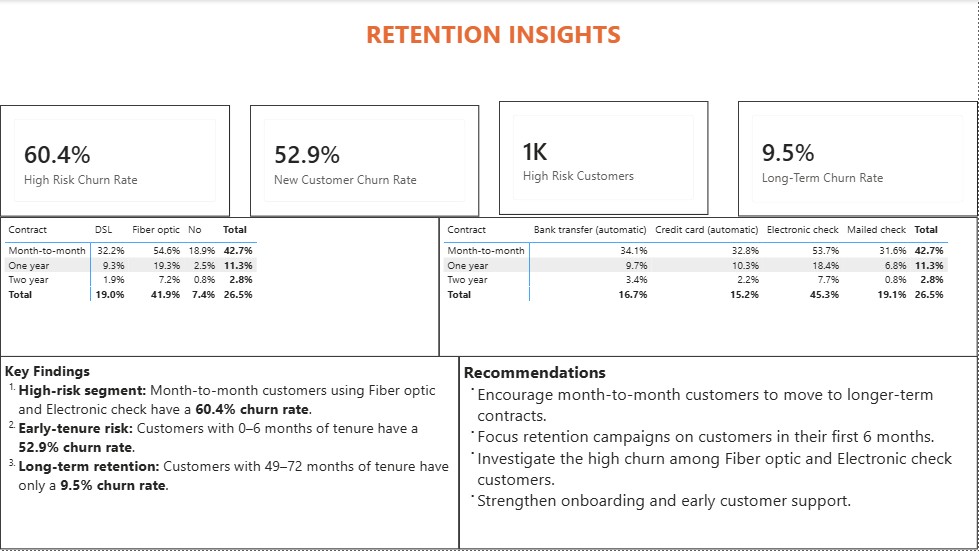

The dashboard page shown, as its layout file describes it:
{"tool":"powerbi","page":{"name":"Page 3","canvas":[1280,720],"ordinal":2},"visuals":[{"type":"pivotTable","fields":{"Rows":["WA_Fn-UseC_-Telco-Customer-Churn.Contract"],"Columns":["WA_Fn-UseC_-Telco-Customer-Churn.PaymentMethod"],"Values":["WA_Fn-UseC_-Telco-Customer-Churn.Churn Rate"]},"box":[575.3,283.5,704.7,183.1],"z":0},{"type":"cardVisual","fields":{"Data":["WA_Fn-UseC_-Telco-Customer-Churn.High Risk Churn Rate"]},"box":[0,137.6,301.4,145.9],"z":1000},{"type":"cardVisual","fields":{"Data":["WA_Fn-UseC_-Telco-Customer-Churn.High Risk Customers"]},"box":[653.8,132.1,273.9,148.6],"z":2000},{"type":"cardVisual","fields":{"Data":["WA_Fn-UseC_-Telco-Customer-Churn.New Customer Churn Rate"]},"box":[327.6,137.6,300,145.9],"z":3000},{"type":"cardVisual","fields":{"Data":["WA_Fn-UseC_-Telco-Customer-Churn.Long-Term Churn Rate"]},"box":[966.2,132.1,313.8,151.4],"z":4000},{"type":"pivotTable","fields":{"Rows":["WA_Fn-UseC_-Telco-Customer-Churn.Contract"],"Columns":["WA_Fn-UseC_-Telco-Customer-Churn.InternetService"],"Values":["WA_Fn-UseC_-Telco-Customer-Churn.Churn Rate"]},"box":[0,283.5,575.3,183.1],"z":5000},{"type":"textbox","box":[0,466.6,601.5,253.2],"z":6000},{"type":"textbox","box":[601.5,466.6,678.5,253.2],"z":7000},{"type":"textbox","box":[181.7,15.1,927.7,82.6],"z":7001}]}

Visuals, with their boxes in screenshot pixels (x1, y1, x2, y2), scaled from the page's 1280x720 canvas onto the 979x551 screenshot:
pivotTable - WA_Fn-UseC_-Telco-Customer-Churn.Contract x WA_Fn-UseC_-Telco-Customer-Churn.PaymentMethod: l=440, t=217, r=978, b=357
cardVisual - WA_Fn-UseC_-Telco-Customer-Churn.High Risk Churn Rate: l=0, t=105, r=231, b=217
cardVisual - WA_Fn-UseC_-Telco-Customer-Churn.High Risk Customers: l=500, t=101, r=710, b=215
cardVisual - WA_Fn-UseC_-Telco-Customer-Churn.New Customer Churn Rate: l=251, t=105, r=480, b=217
cardVisual - WA_Fn-UseC_-Telco-Customer-Churn.Long-Term Churn Rate: l=739, t=101, r=978, b=217
pivotTable - WA_Fn-UseC_-Telco-Customer-Churn.Contract x WA_Fn-UseC_-Telco-Customer-Churn.InternetService: l=0, t=217, r=440, b=357
textbox: l=0, t=357, r=460, b=550
textbox: l=460, t=357, r=978, b=550
textbox: l=139, t=12, r=849, b=75
